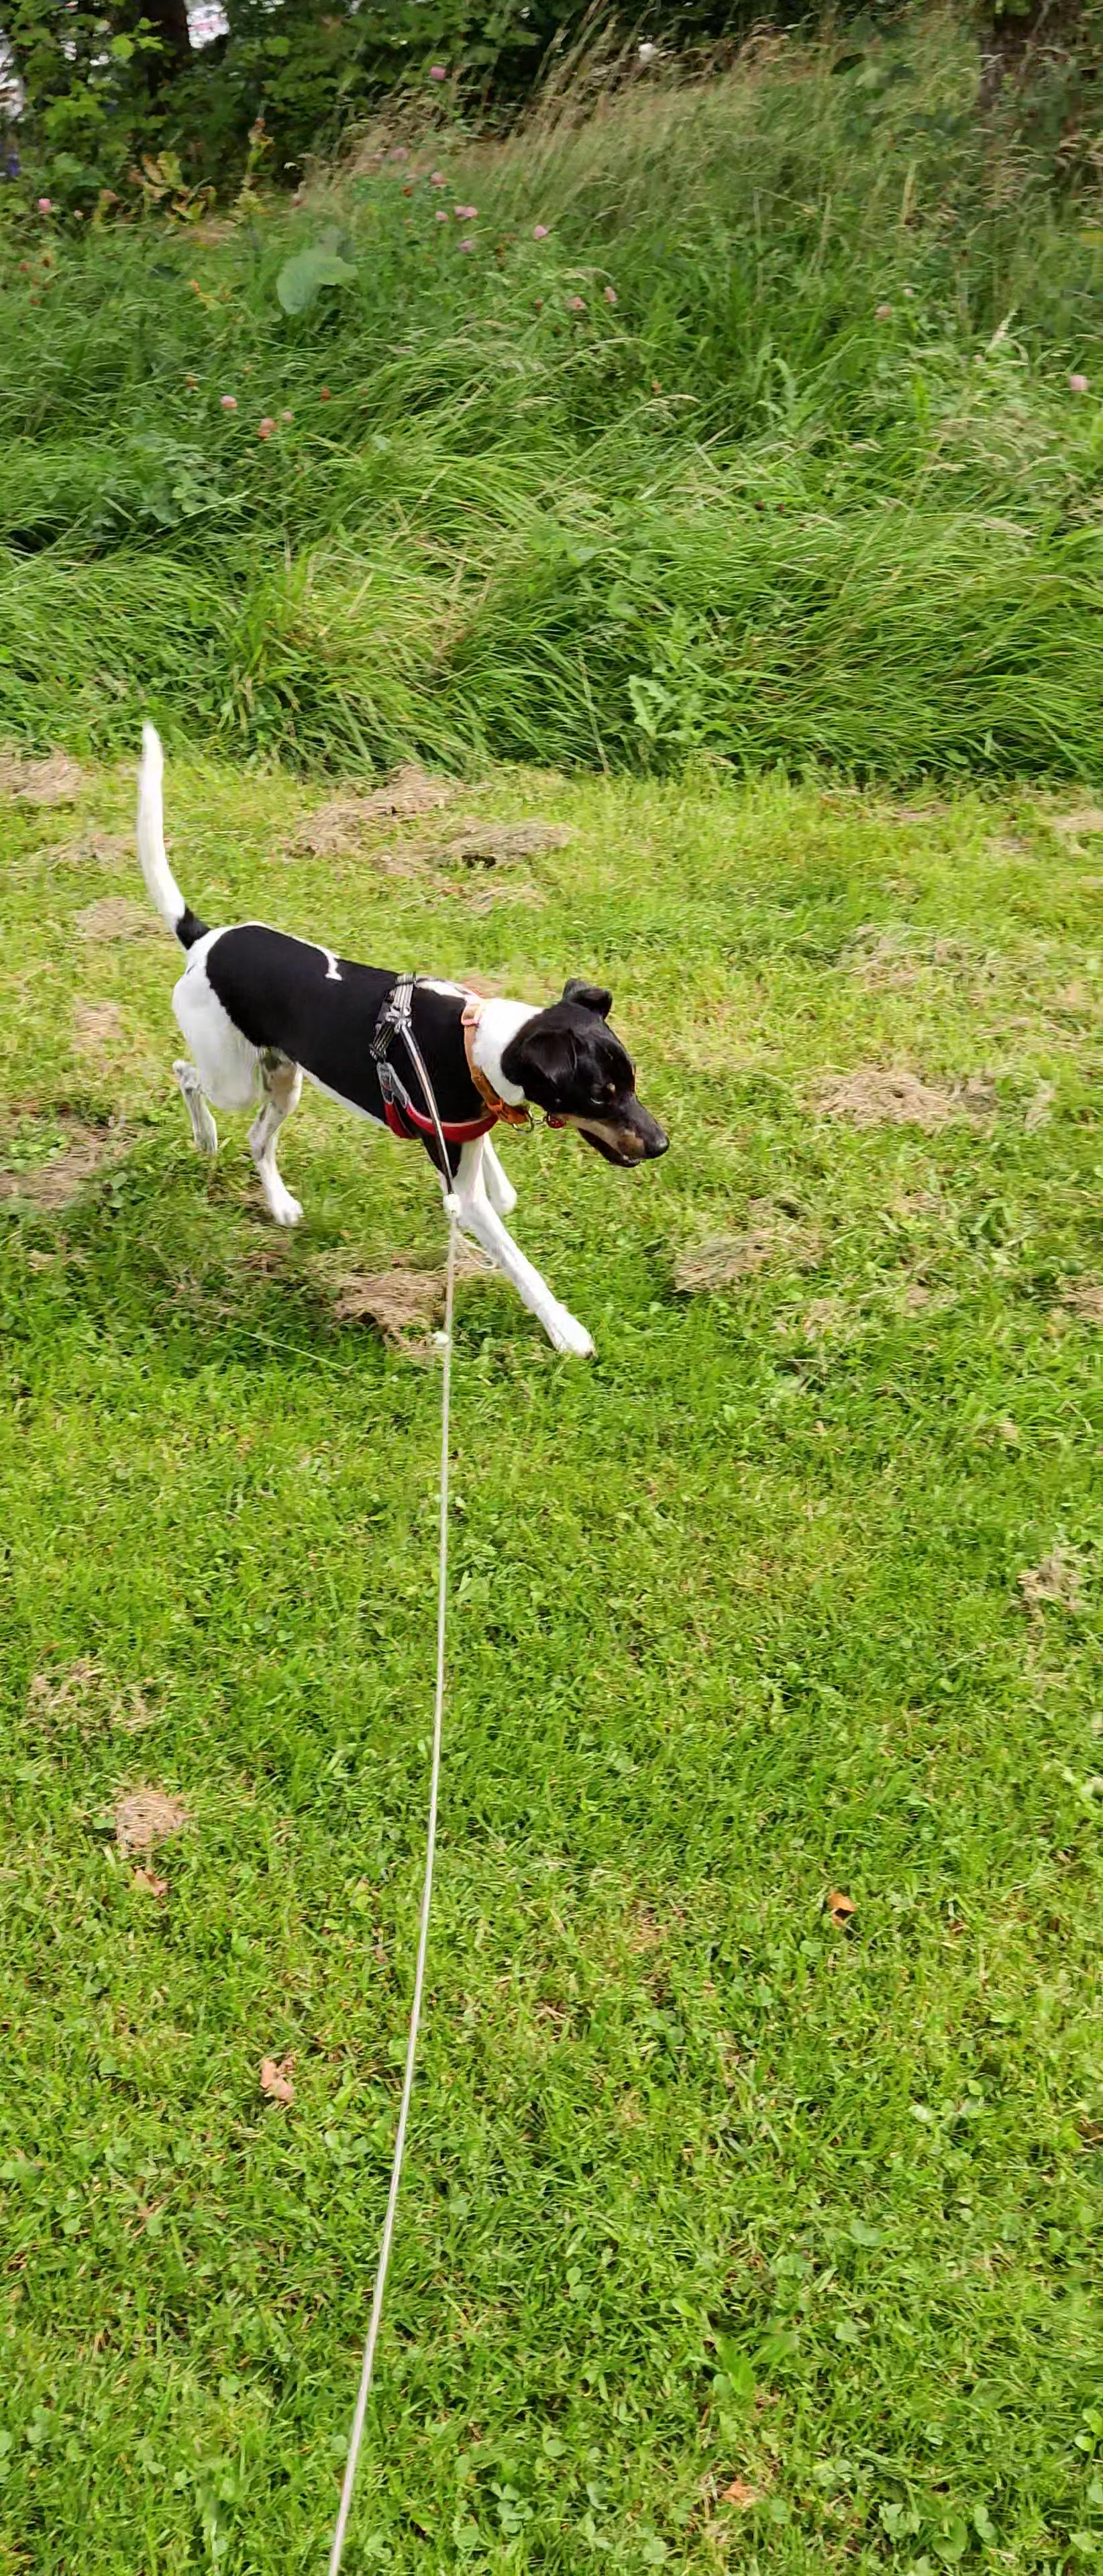Dog: (120, 711, 671, 1364)
